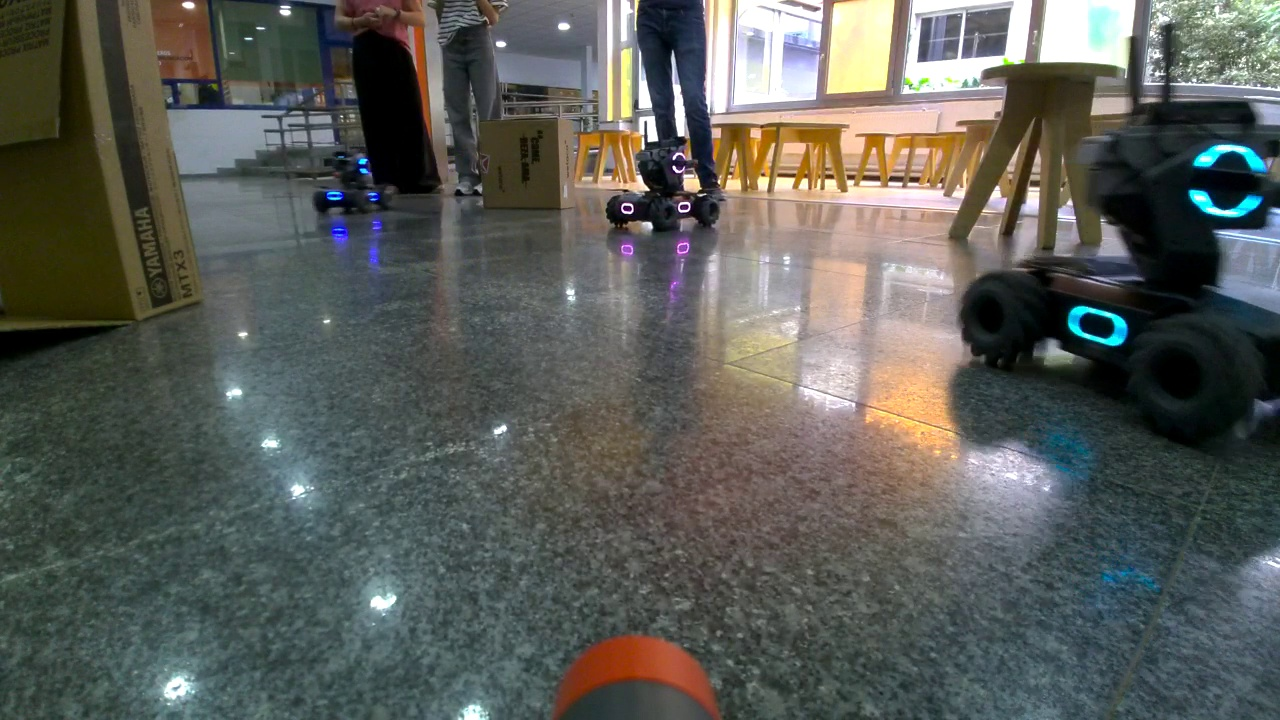robot: (954, 98, 1280, 448), (608, 142, 721, 239), (310, 159, 382, 210)
